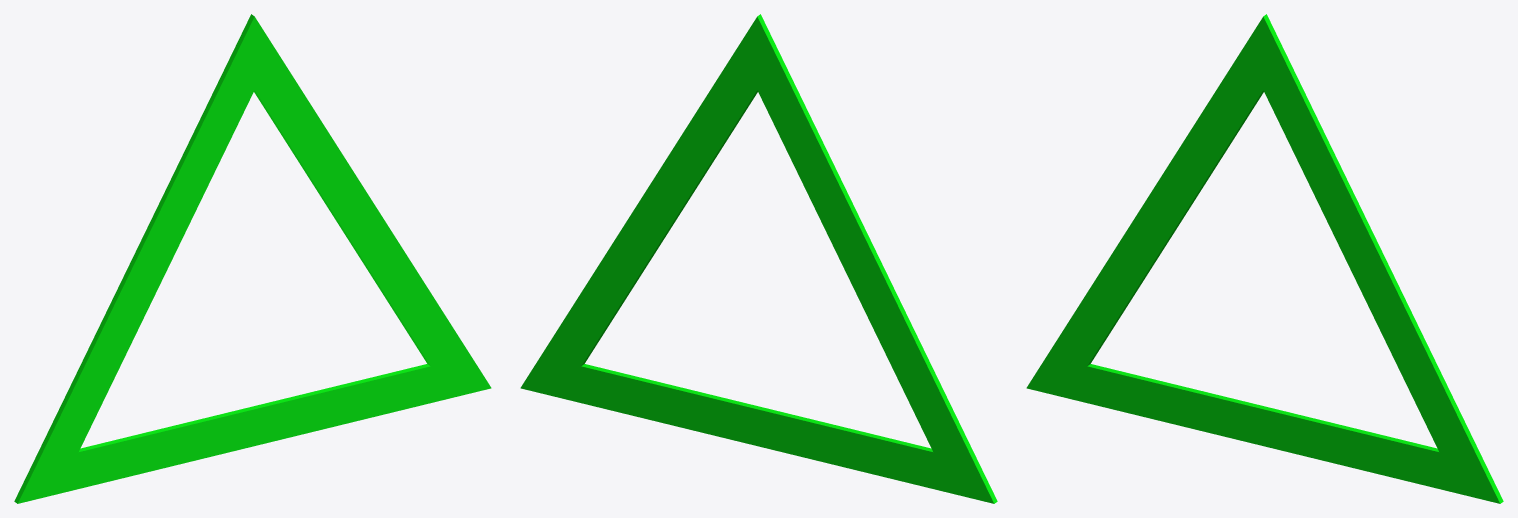
Rendered from gate_triangle_big_green.dae.
The picture shows the model from 3 angles, left to right: view 1: azimuth 30°, elevation 25°; view 2: azimuth 150°, elevation 25°; view 3: azimuth 330°, elevation 25°; orthographic projection.
Visible parts, largest first — view 1: Triangle_Big; view 2: Triangle_Big; view 3: Triangle_Big.
Part boxes in pixels (<box>): Triangle_Big: <box>14,14,491,503</box>; Triangle_Big: <box>520,14,997,503</box>; Triangle_Big: <box>1026,14,1503,503</box>.
Bounding box in the file's own units: 2.02 × 0.025 × 1.75.
